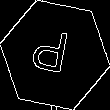P_S: (33, 27, 77, 83)
